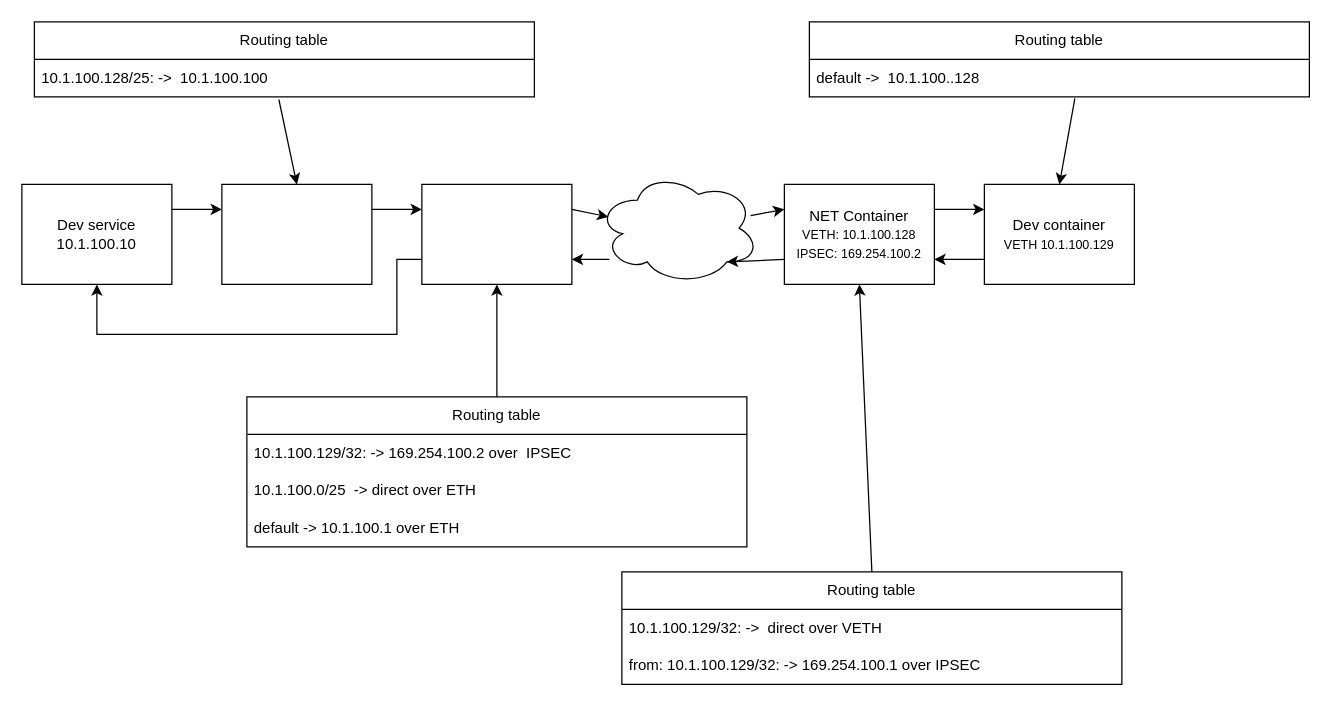
Image size: 1331x706. Some labels were removed from this diagram. Here are the shapes that lost their labels. From the top down, the centre of each, then its label:
At point (296, 233): "Dev main router 10.1.100.1".
At point (496, 233): "IPSEC GW ETH: 10.1.100.100 IPSEC: 169.254.100.1".
At point (677, 227): "TRANSPORT".
